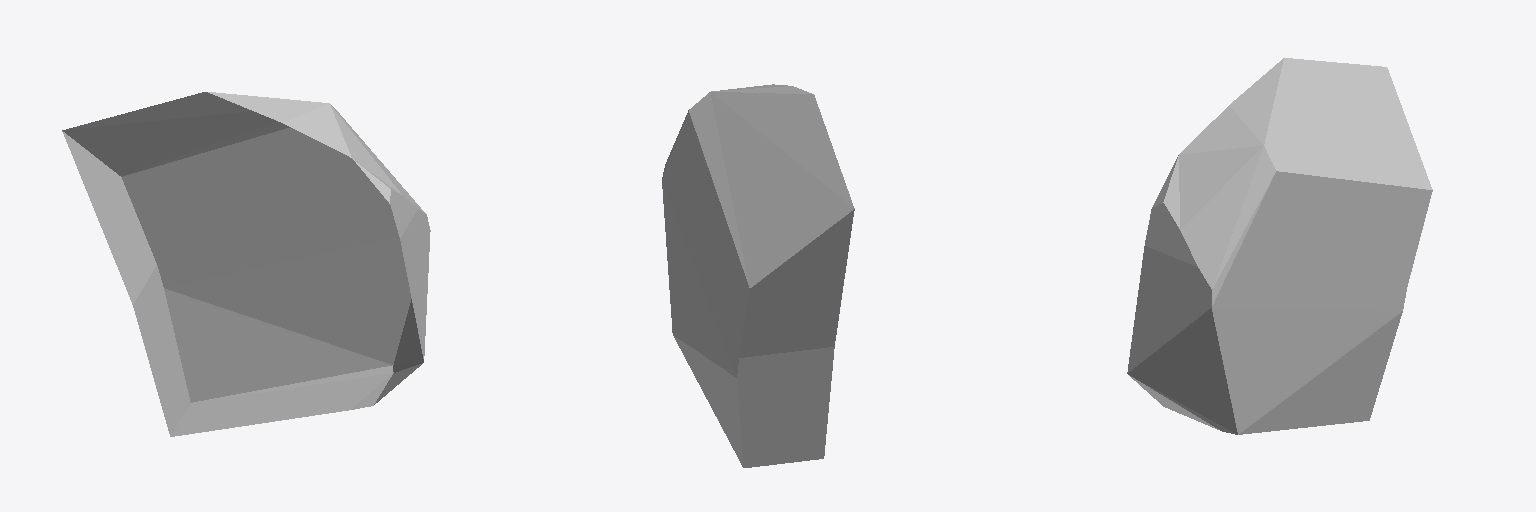
File: li-fang-ti-.001_cell.141.obj
The picture shows the model from 3 angles: view 1: azimuth 30°, elevation 25°; view 2: azimuth 150°, elevation 25°; view 3: azimuth 270°, elevation 25°; orthographic projection.
Parts seen in each view (by area): view 1: 立方体.001_cell.141; view 2: 立方体.001_cell.141; view 3: 立方体.001_cell.141.
Boxes of the visible parts, box(x1,y1,x2,y2) form: 立方体.001_cell.141: box(62, 92, 430, 436); 立方体.001_cell.141: box(662, 84, 854, 467); 立方体.001_cell.141: box(1127, 58, 1432, 434).
Bounding box in the file's own units: 0.1026 × 0.1221 × 0.0968.